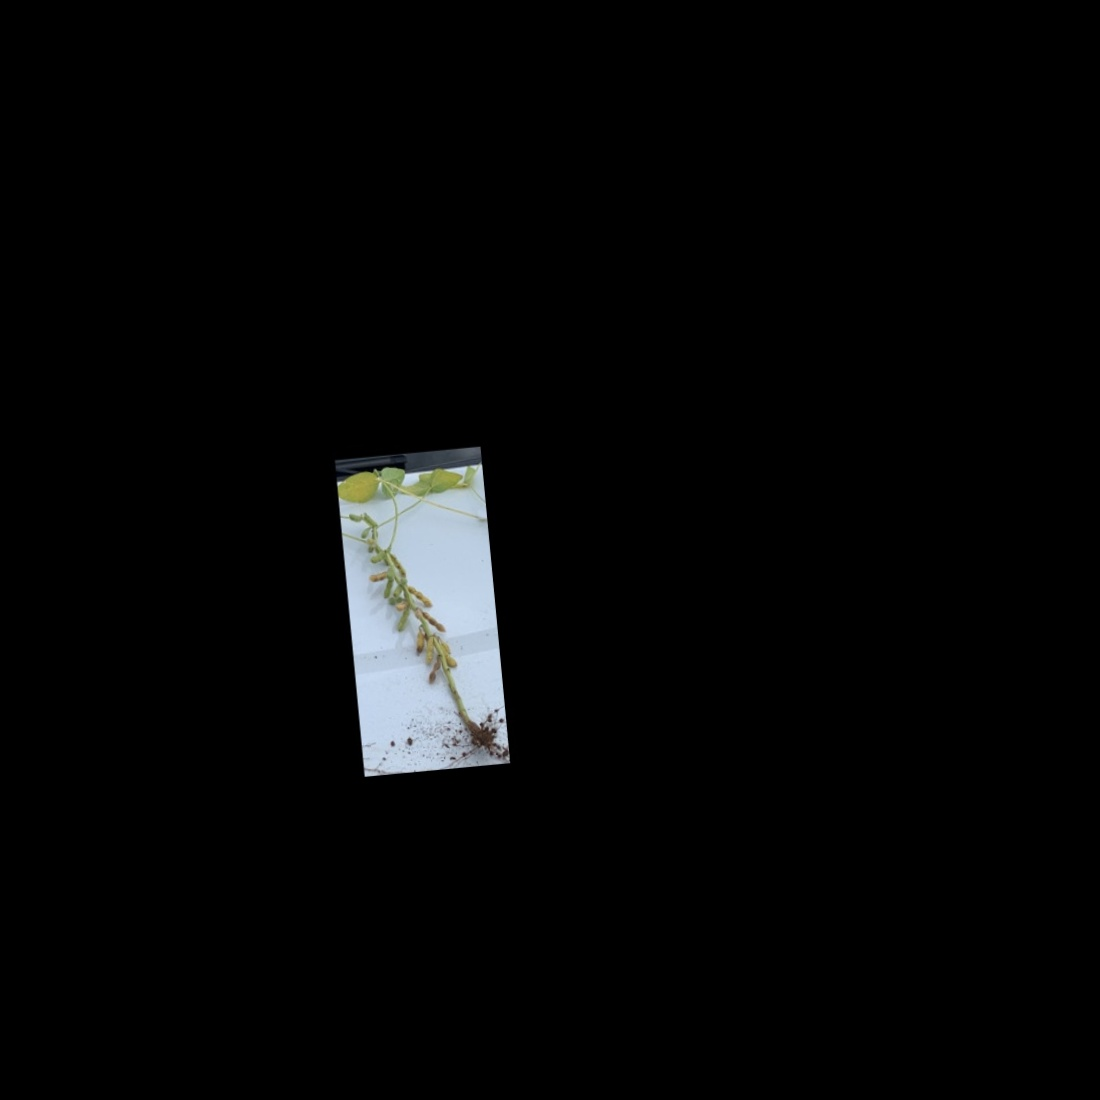pod: (421, 604, 448, 635), (407, 582, 434, 610), (388, 551, 409, 582), (419, 637, 438, 666), (393, 608, 413, 636), (367, 568, 394, 582), (369, 551, 385, 565)
soy: (339, 463, 492, 769)
